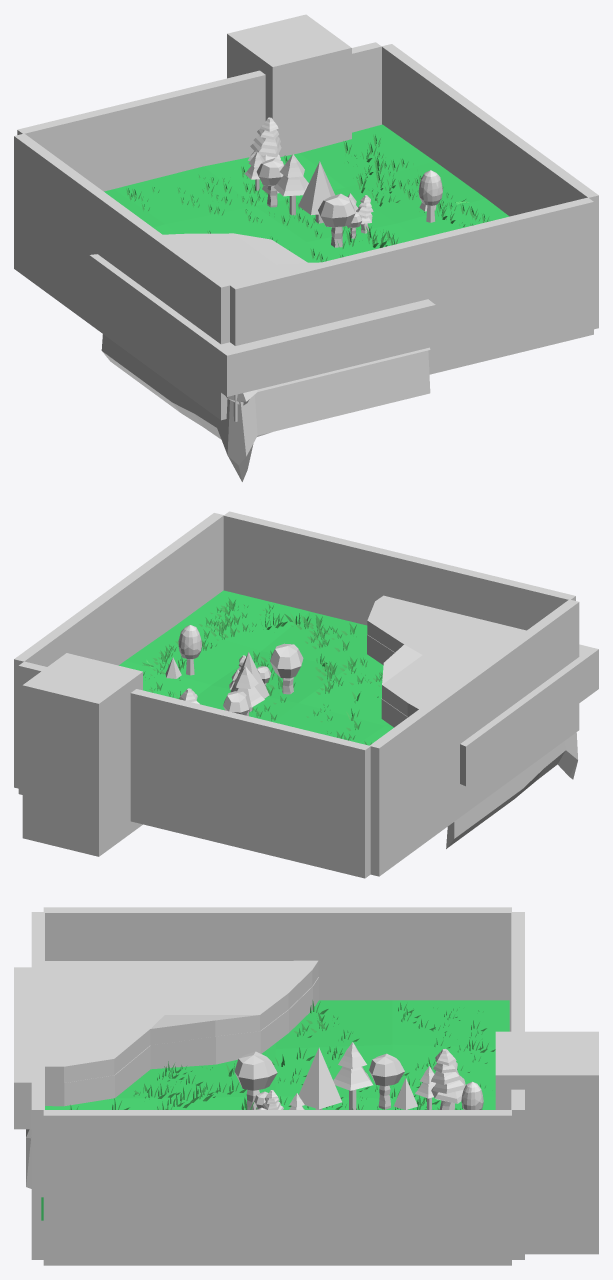
Rendered from green path.fbx.
3 views of the same model, one above another, from view 1: azimuth 30°, elevation 25°; view 2: azimuth 150°, elevation 25°; view 3: azimuth 270°, elevation 25° (orthographic). The views are drawn at different scales.
Visible parts, largest first — view 1: wall, Cube.001, Cube.002, water wall, Cube.004, Cone009, Sphere002, Cube.003, Sphere004; view 2: wall, Cube.001, Cube.004, water wall, Cube.002, Sphere002, Sphere004, Sphere001; view 3: wall, water wall, Cube.001, Cube.004, Cube.002, Cone009, Sphere002, Sphere001, Cone004, Sphere005.
Part boxes in pixels (bbox=[...]): wall: bbox=[14, 42, 598, 421]; Cube.001: bbox=[104, 124, 509, 262]; Cube.002: bbox=[89, 254, 435, 396]; water wall: bbox=[101, 233, 430, 481]; Cube.004: bbox=[227, 14, 351, 156]; Cone009: bbox=[298, 161, 334, 215]; Sphere002: bbox=[318, 193, 355, 227]; Cube.003: bbox=[226, 347, 430, 405]; Sphere004: bbox=[418, 170, 442, 205]; wall: bbox=[14, 511, 579, 878]; Cube.001: bbox=[119, 590, 393, 745]; Cube.004: bbox=[22, 653, 142, 856]; water wall: bbox=[367, 595, 577, 848]; Cube.002: bbox=[367, 634, 598, 786]; Sphere002: bbox=[270, 643, 303, 678]; Sphere004: bbox=[178, 625, 201, 659]; Sphere001: bbox=[223, 691, 250, 715]; wall: bbox=[31, 907, 524, 1265]; water wall: bbox=[26, 960, 318, 1188]; Cube.001: bbox=[41, 1000, 509, 1220]; Cube.004: bbox=[495, 1031, 598, 1254]; Cube.002: bbox=[14, 967, 318, 1129]; Cone009: bbox=[299, 1047, 341, 1109]; Sphere002: bbox=[234, 1051, 277, 1090]; Sphere001: bbox=[369, 1053, 404, 1086]; Cone004: bbox=[333, 1066, 372, 1090]; Sphere005: bbox=[461, 1081, 483, 1109].
Bounding box in the file's own units: 14817 × 7562 × 17241.
